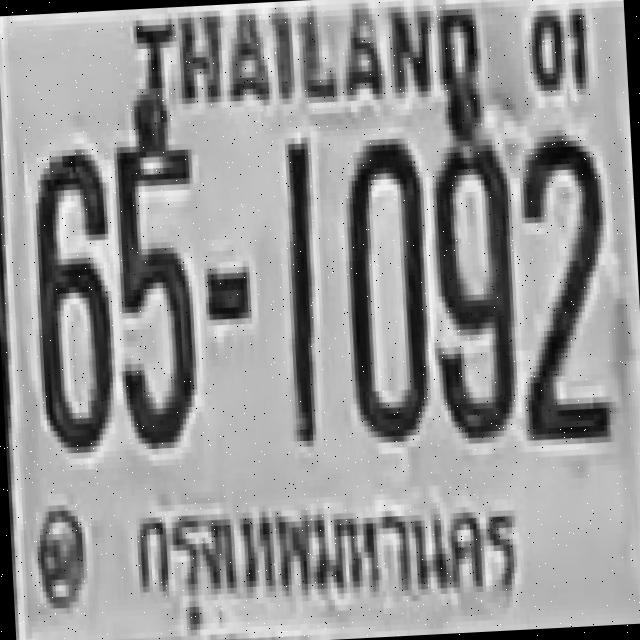0: (340, 132, 433, 438)
1: (280, 138, 322, 442)
2: (511, 123, 611, 441)
5: (108, 121, 206, 445)
6: (26, 143, 116, 449)
9: (424, 127, 516, 434)
Bangkok: (125, 468, 534, 640)
